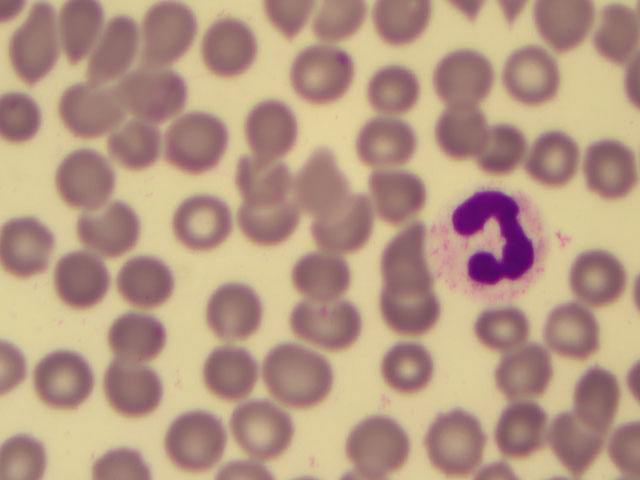RBC: (4, 4, 78, 77), (82, 12, 156, 85), (188, 15, 262, 88), (122, 51, 196, 124), (52, 72, 126, 145), (92, 108, 166, 181), (171, 108, 245, 181), (47, 138, 121, 211), (68, 178, 142, 251), (43, 237, 117, 310), (2, 228, 76, 301), (112, 245, 186, 318), (101, 302, 175, 375), (87, 356, 161, 429), (24, 342, 98, 415), (151, 402, 225, 475), (218, 392, 292, 465), (179, 340, 253, 413), (193, 277, 267, 350), (256, 338, 330, 411), (290, 290, 364, 363), (280, 244, 354, 317), (304, 194, 378, 267), (287, 138, 361, 211), (221, 181, 295, 254), (225, 142, 299, 215), (239, 88, 313, 161), (160, 185, 234, 258), (286, 39, 360, 112), (358, 46, 432, 119), (349, 100, 423, 173), (364, 153, 438, 226), (367, 227, 441, 300), (373, 271, 447, 344), (373, 333, 447, 406), (338, 407, 412, 480), (418, 402, 492, 475), (486, 396, 560, 469), (491, 336, 565, 409), (464, 293, 538, 366), (530, 298, 604, 371), (566, 244, 640, 317), (566, 129, 640, 202), (521, 119, 595, 192), (489, 110, 563, 183), (447, 101, 521, 174), (437, 50, 511, 123), (500, 50, 574, 123), (48, 1, 122, 73), (133, 1, 207, 73), (552, 417, 612, 478), (569, 366, 629, 427), (531, 1, 591, 61)
WBC: (433, 188, 553, 297)
